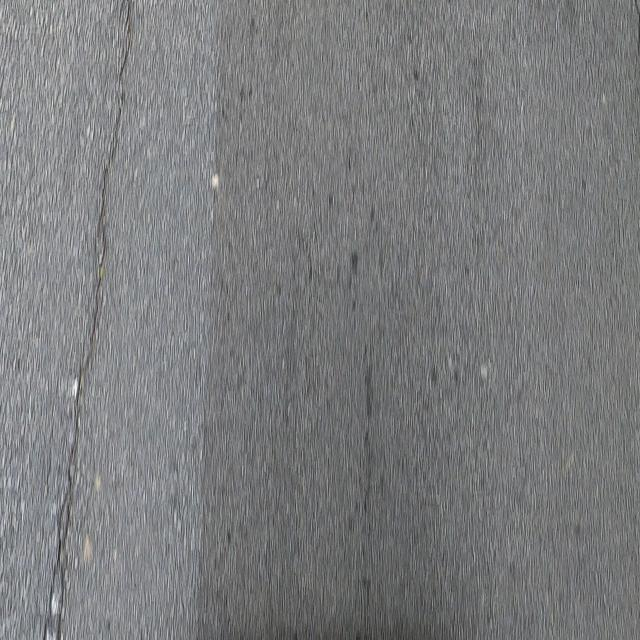Retak-Memanjang: (34, 5, 137, 640)
